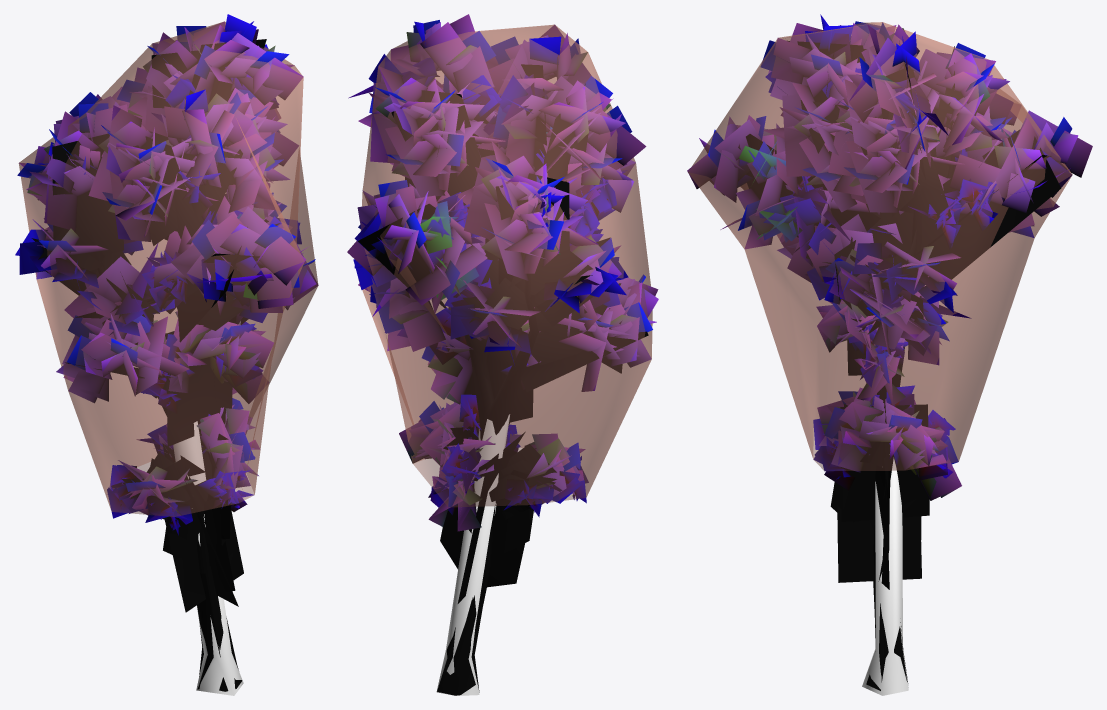
The model's file is tree_oak_forest_a.dae.
3 renders of one model, left to right at view 1: azimuth 30°, elevation 25°; view 2: azimuth 150°, elevation 25°; view 3: azimuth 270°, elevation 25°, orthographic.
Visible parts, largest first — view 1: Colmesh_forest_01-1, OakForest_01_a600, OakForest_01_a2000; view 2: Colmesh_forest_01-1, OakForest_01_a2000, OakForest_01_a600; view 3: Colmesh_forest_01-1, OakForest_01_a600, OakForest_01_a2000.
Part boxes in pixels (x1,y1,x2,y2): Colmesh_forest_01-1: (18,21,318,695); OakForest_01_a600: (19,21,318,691); OakForest_01_a2000: (15,14,315,691); Colmesh_forest_01-1: (358,24,652,695); OakForest_01_a2000: (347,14,658,692); OakForest_01_a600: (347,14,657,695); Colmesh_forest_01-1: (688,22,1072,695); OakForest_01_a600: (687,21,1092,685); OakForest_01_a2000: (687,14,1092,690).
Bounding box in the file's own units: 7.99 × 9.87 × 17.85.
